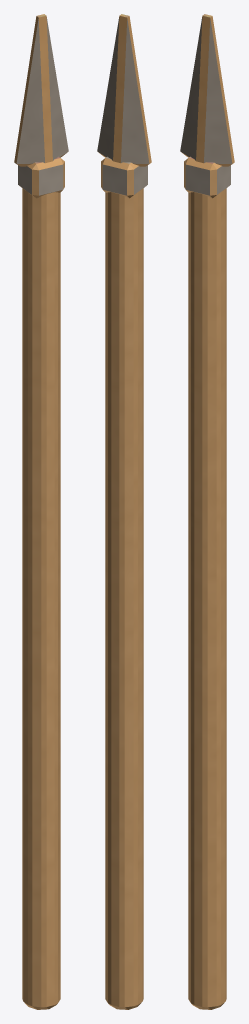
File: sm_tool_spear.glb
3 renders of one model, left to right at view 1: azimuth 30°, elevation 25°; view 2: azimuth 150°, elevation 25°; view 3: azimuth 330°, elevation 25°, orthographic.
Visible parts, largest first — view 1: sm_tool_spear; view 2: sm_tool_spear; view 3: sm_tool_spear.
Part boxes in pixels (x1,y1,x2,y2): sm_tool_spear: (14,14,68,1009); sm_tool_spear: (97,14,151,1009); sm_tool_spear: (180,14,234,1009).
Size of the model in its own units: 0.0475 by 0.8563 by 0.03.
Materials: 1 (1 with a texture image).
